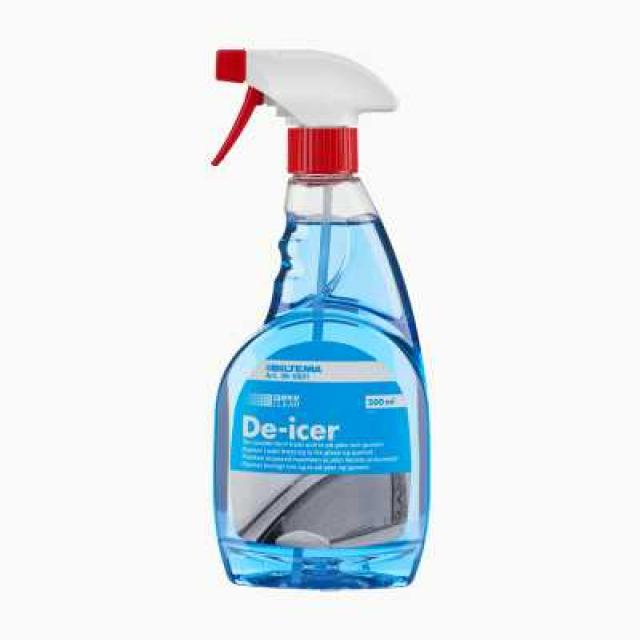winwinshield_washer: (202, 45, 434, 593)
